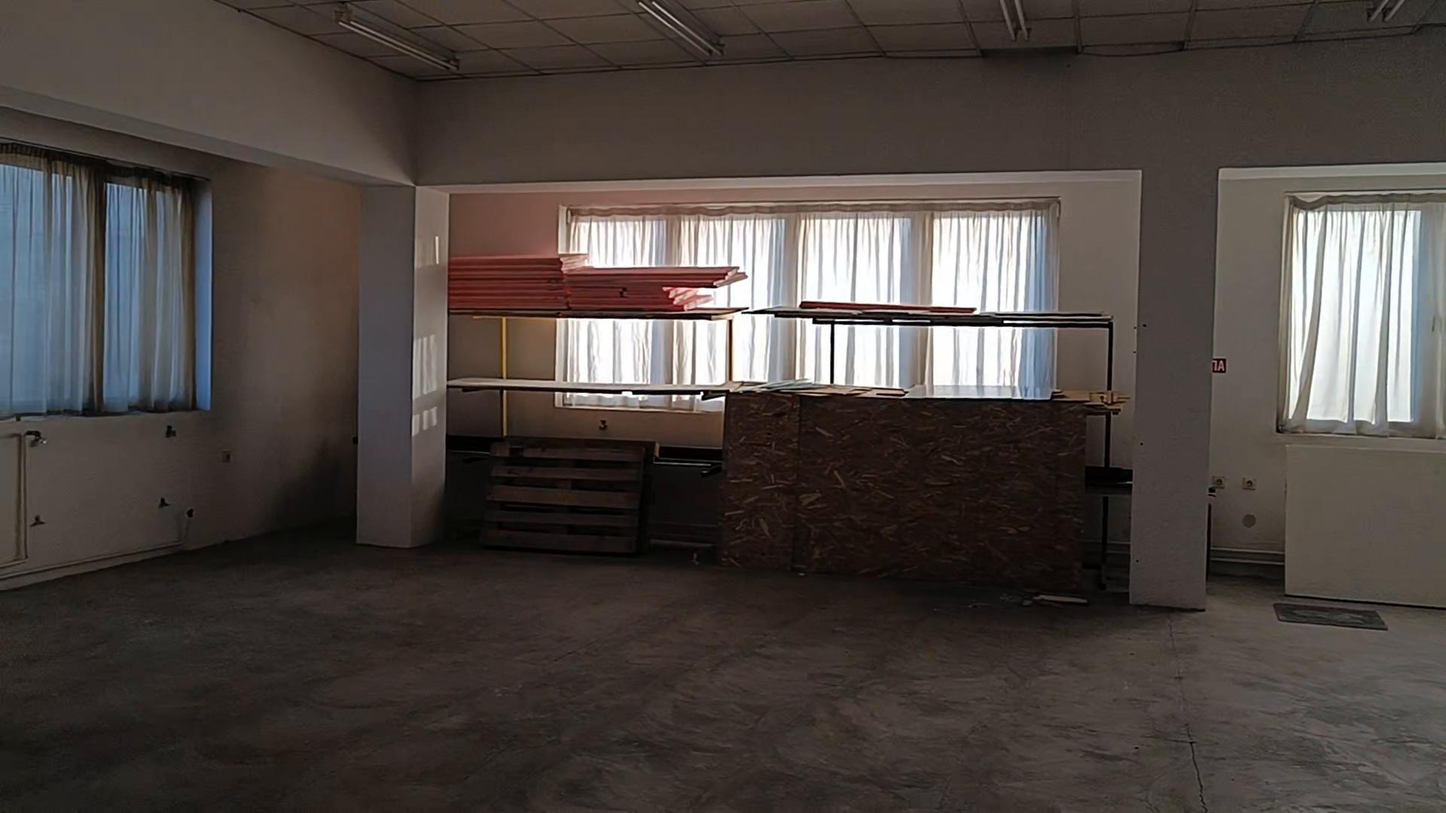ceiling: (218, 0, 1445, 79)
floor: (0, 525, 1445, 812)
wall: (1, 6, 1445, 605)
